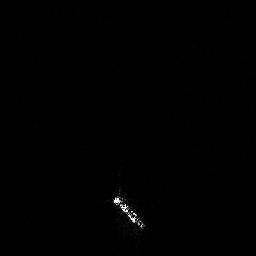ship: (112, 190, 147, 231)
